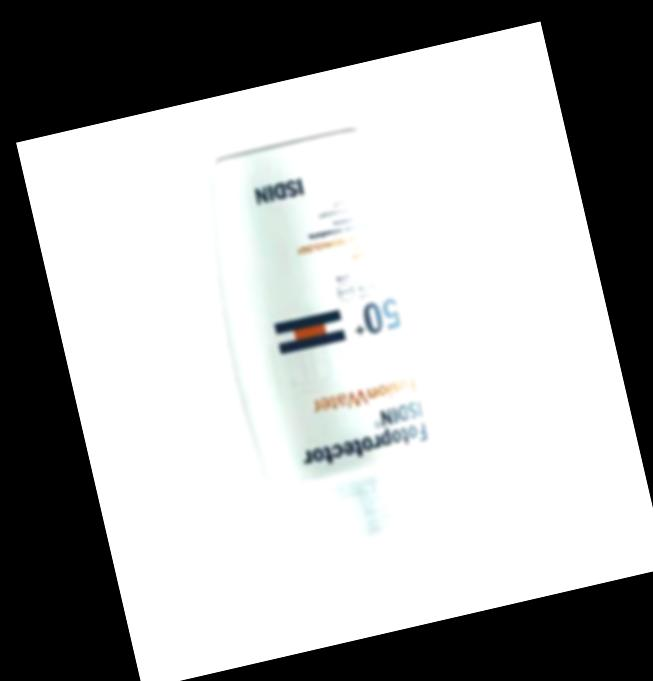cosmetic: (195, 120, 474, 598)
